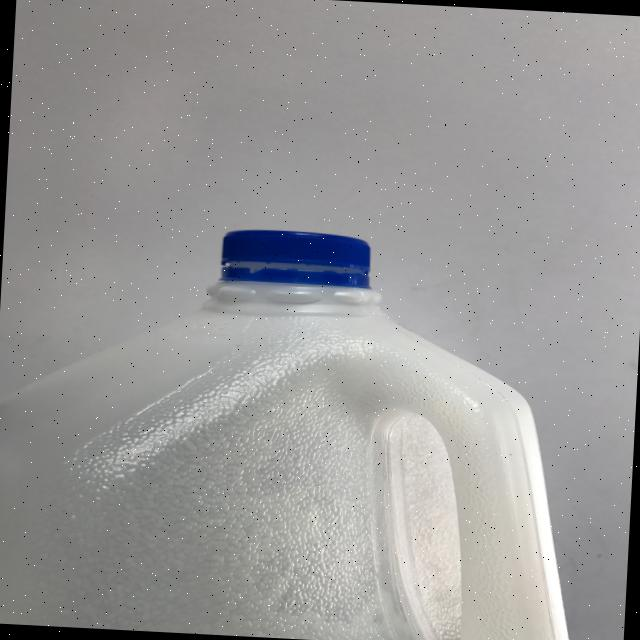plastic: (0, 215, 594, 640)
